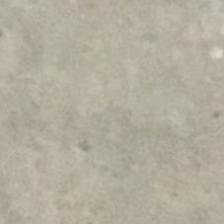Non_Crack: (10, 11, 224, 216)
